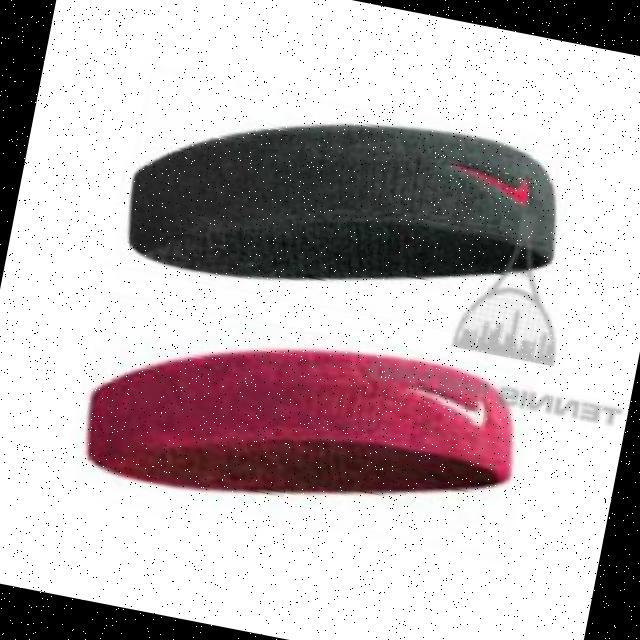Nike: (447, 160, 539, 207), (405, 384, 493, 426)
